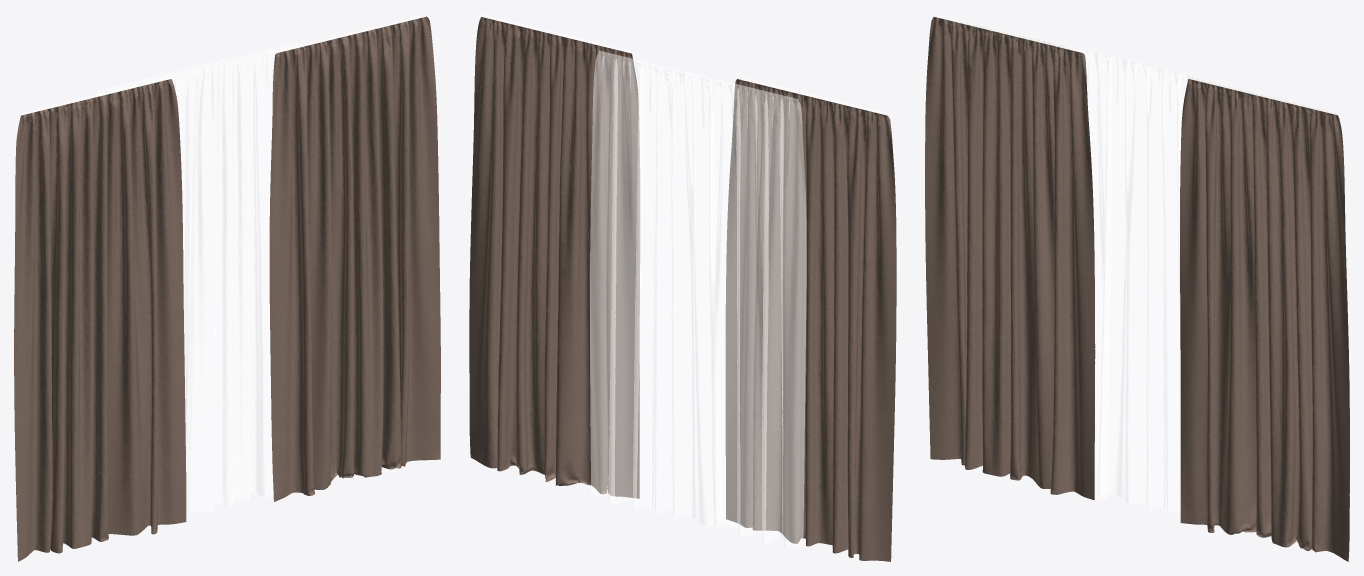
3 views of the same model, side by side, from view 1: azimuth 30°, elevation 25°; view 2: azimuth 150°, elevation 25°; view 3: azimuth 330°, elevation 25° (orthographic).
Parts seen in each view (by area): view 1: Object_2, Object_7; view 2: Object_2, Object_7; view 3: Object_2, Object_7.
Part boxes in pixels (<box>): Object_2: <box>14,16,440,561</box>; Object_7: <box>21,14,426,518</box>; Object_2: <box>469,17,896,561</box>; Object_7: <box>481,14,887,547</box>; Object_2: <box>925,17,1349,561</box>; Object_7: <box>934,14,1337,512</box>.
Size of the model in its own units: 403 by 405 by 34.45.
2 materials, 2 textured.
